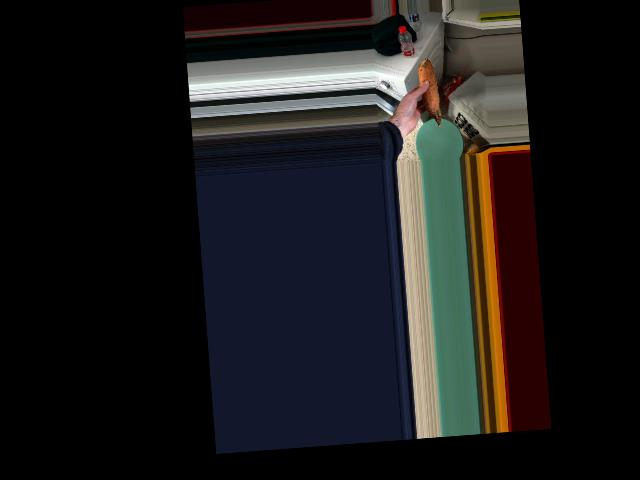sweet_potato: (420, 54, 443, 131)
